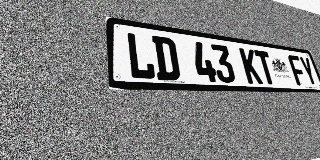3: (210, 44, 236, 83)
4: (191, 41, 218, 82)
D: (152, 35, 181, 81)
F: (287, 54, 308, 86)
K: (239, 48, 263, 84)
L: (126, 32, 156, 80)
T: (254, 50, 277, 85)
Y: (298, 56, 319, 86)
